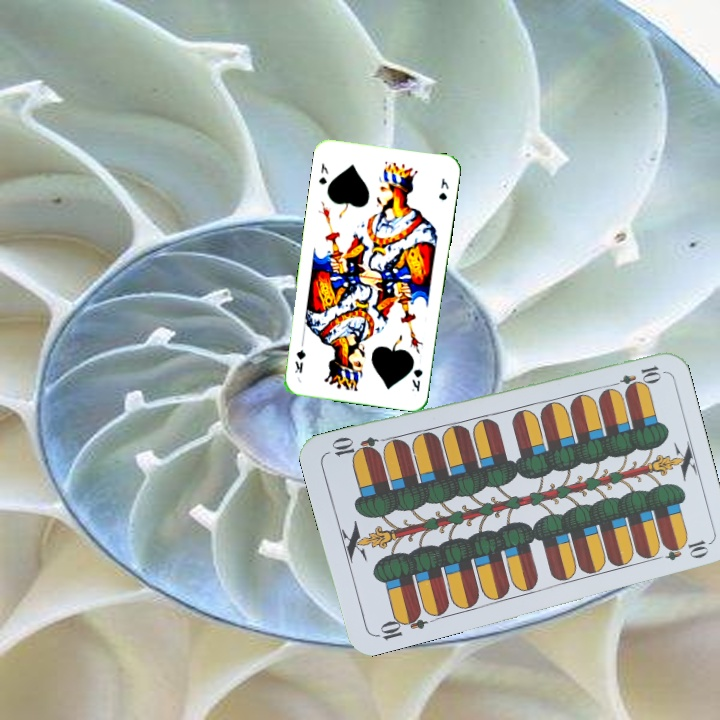E10: (371, 607, 429, 643), (605, 361, 664, 392)
GK: (408, 365, 425, 394), (315, 159, 331, 187)
